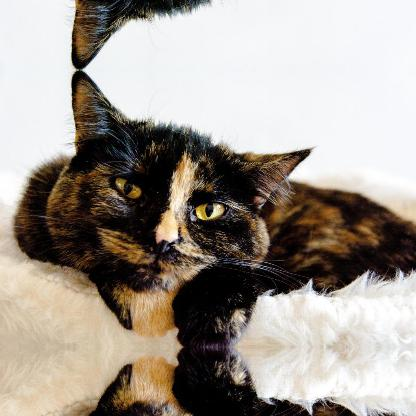Cat: (10, 69, 416, 346), (10, 0, 415, 70), (10, 346, 415, 415)
